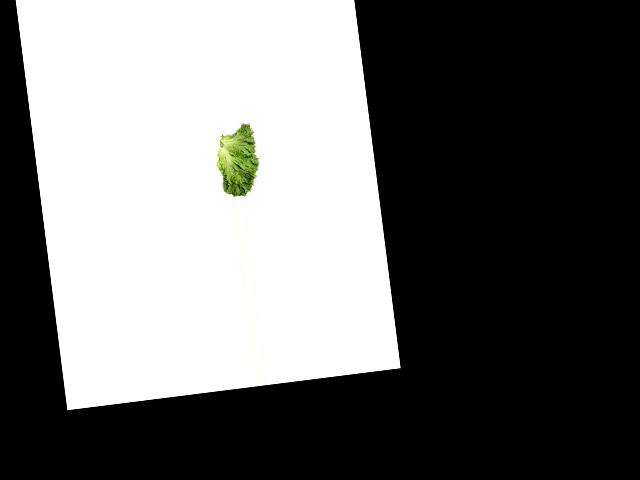lettuce: (209, 121, 268, 199)
